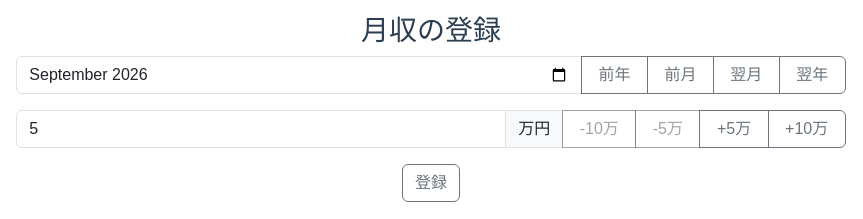
Scenario: 月収の入力 › -10万
Replace the text in the number field with test id "income-form" with "20". click: (261, 129)
box: [16,110,506,148]
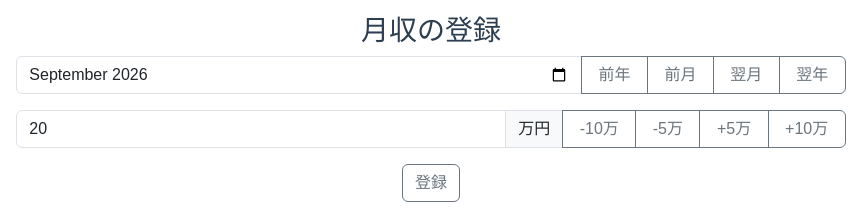
Click the button with test id "minus10". click: (599, 129)
box: [562,110,636,148]
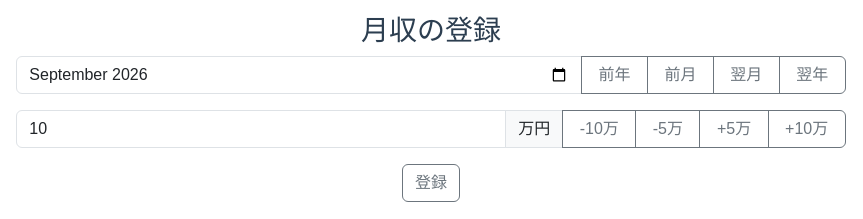
Expected: the number field with test id "income-form" holds "10", [16,110,506,148]
